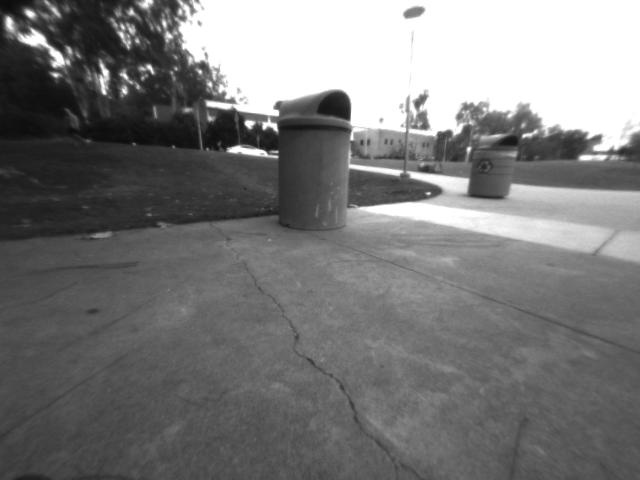trashcan: (271, 85, 354, 233)
